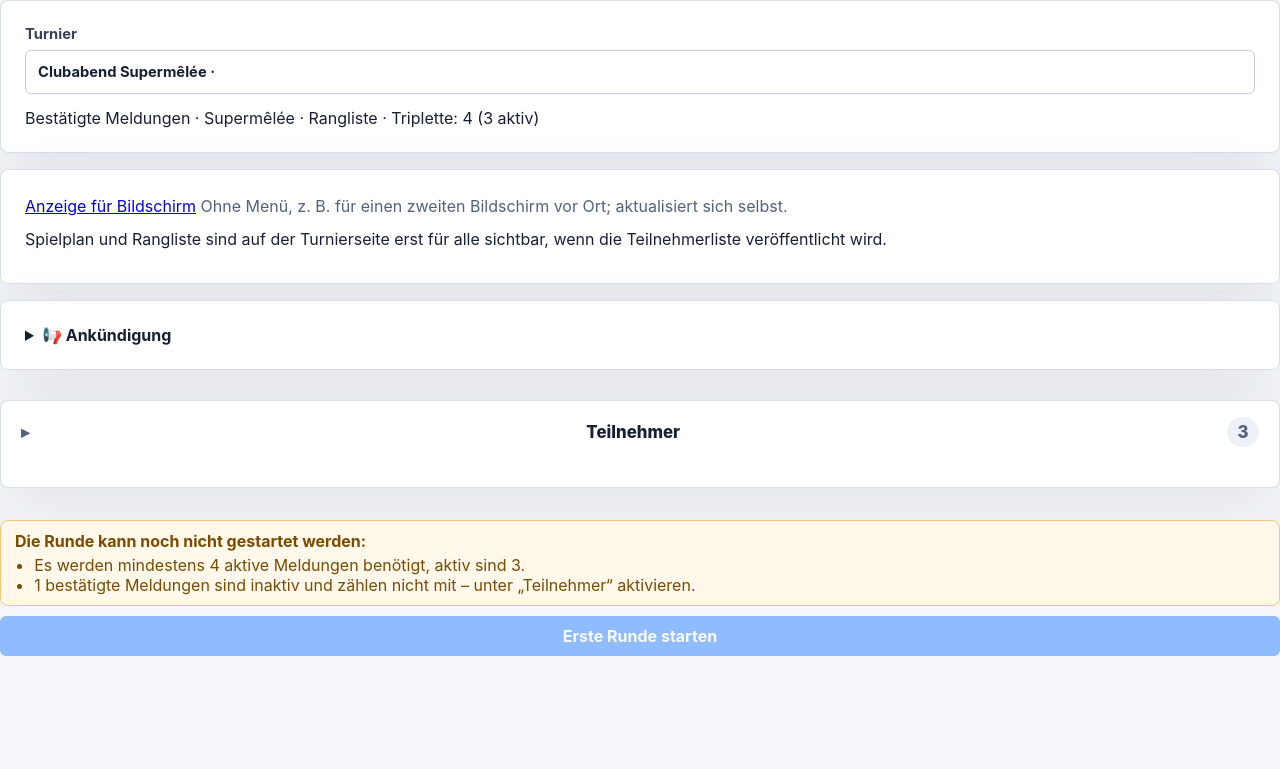
Test: TournamentPlayManagement › zeigt das Kontosymbol nur bei verknüpften Teilnehmern, auch wenn sie inaktiv sind
Click the text "Teilnehmer" at (633, 432), box [586, 422, 680, 442]
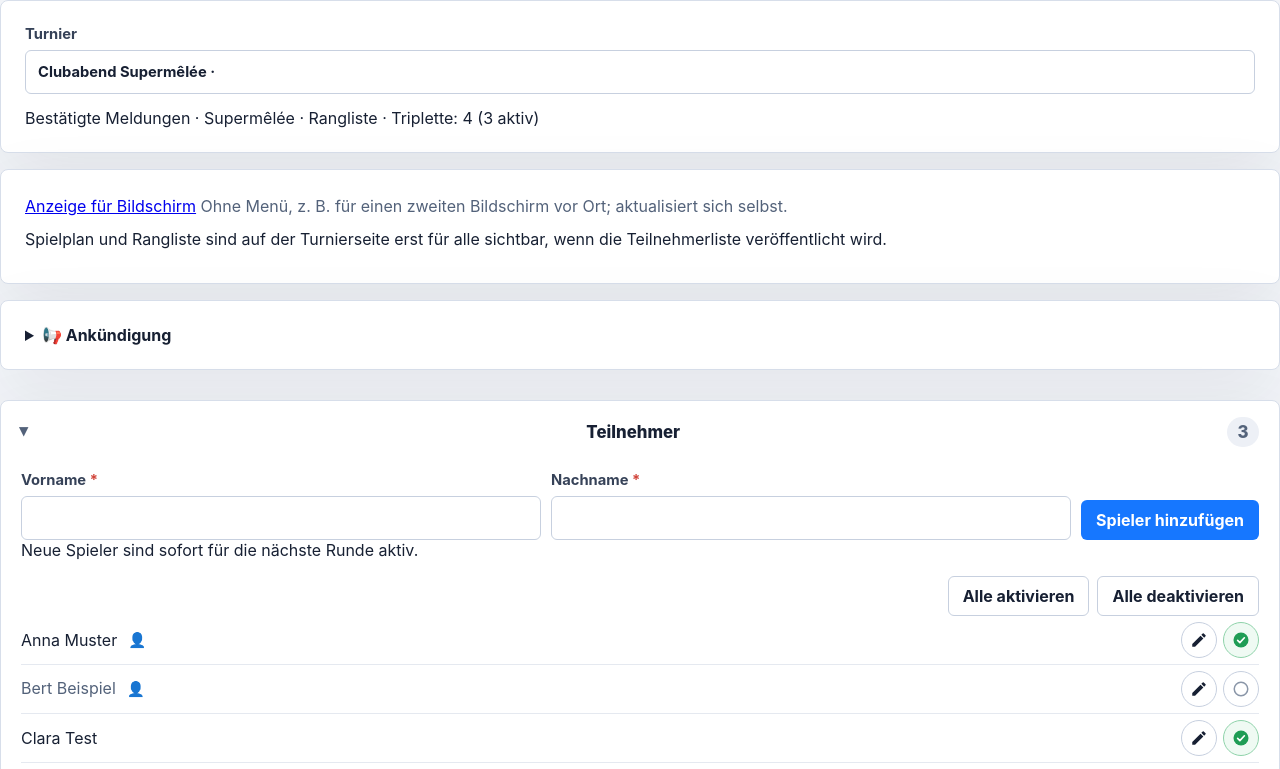
Now the text named "Mit Benutzerkonto verbunden" reads "👤", box [128, 631, 146, 648]
